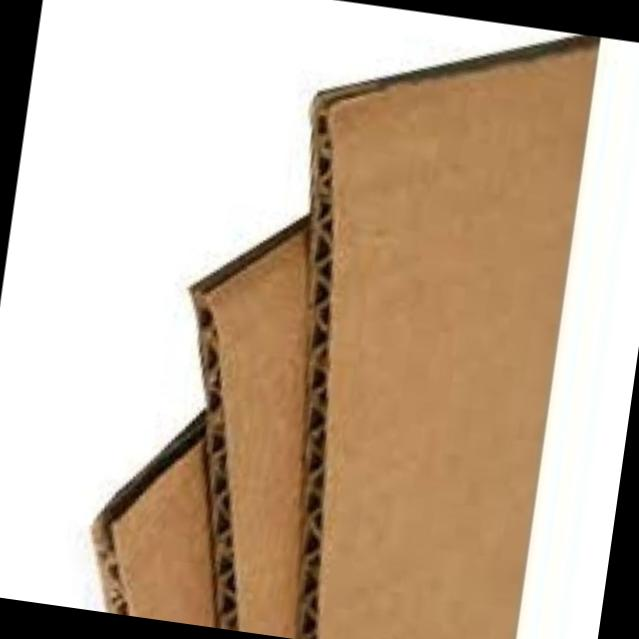cardboard paper: (317, 48, 595, 639), (207, 232, 307, 638), (111, 447, 212, 627)
